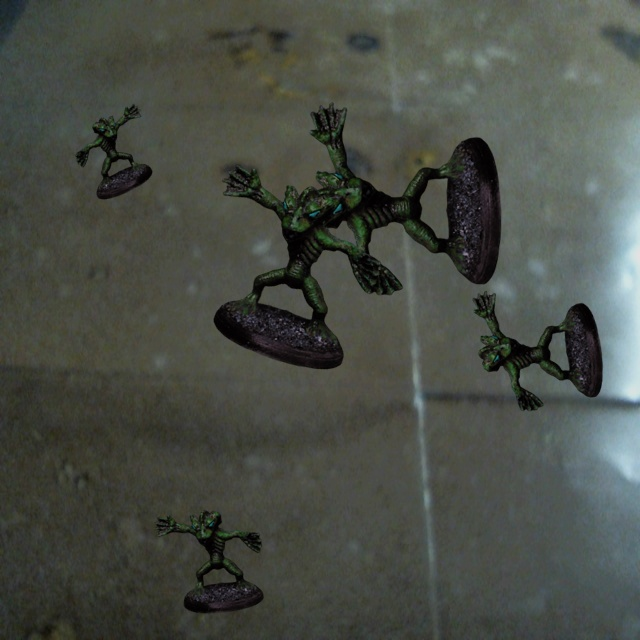pieza_juego: (310, 102, 500, 294), (213, 164, 380, 368), (472, 291, 602, 410), (154, 510, 263, 613), (75, 104, 152, 199)
